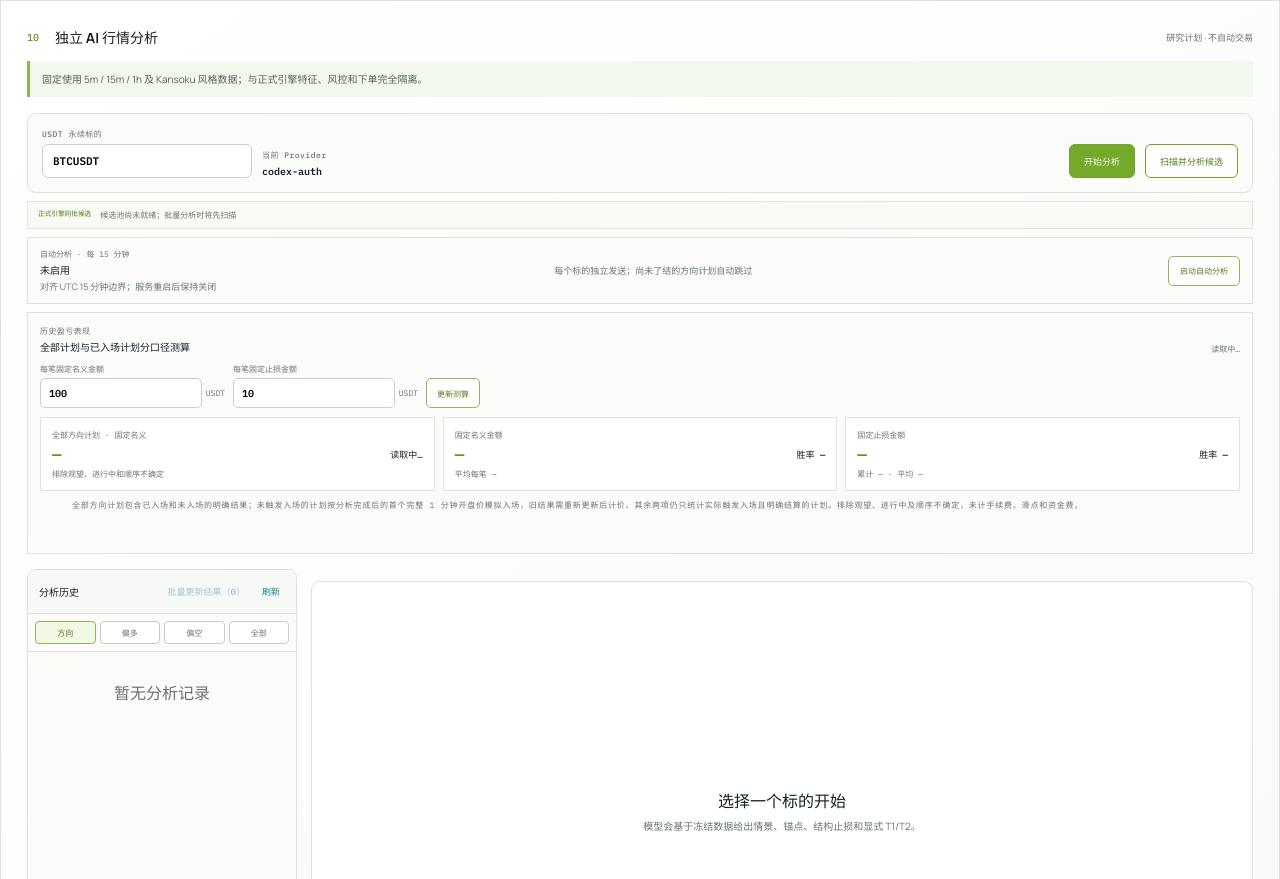
Test: MarketAnalysisPanel › starts an analysis and renders the frozen three-timeframe plan
Expected: the button "扫描并分析候选" is enabled, [1145,144,1238,178]
Click the button "开始分析": (1102, 161) [1069,144,1135,178]
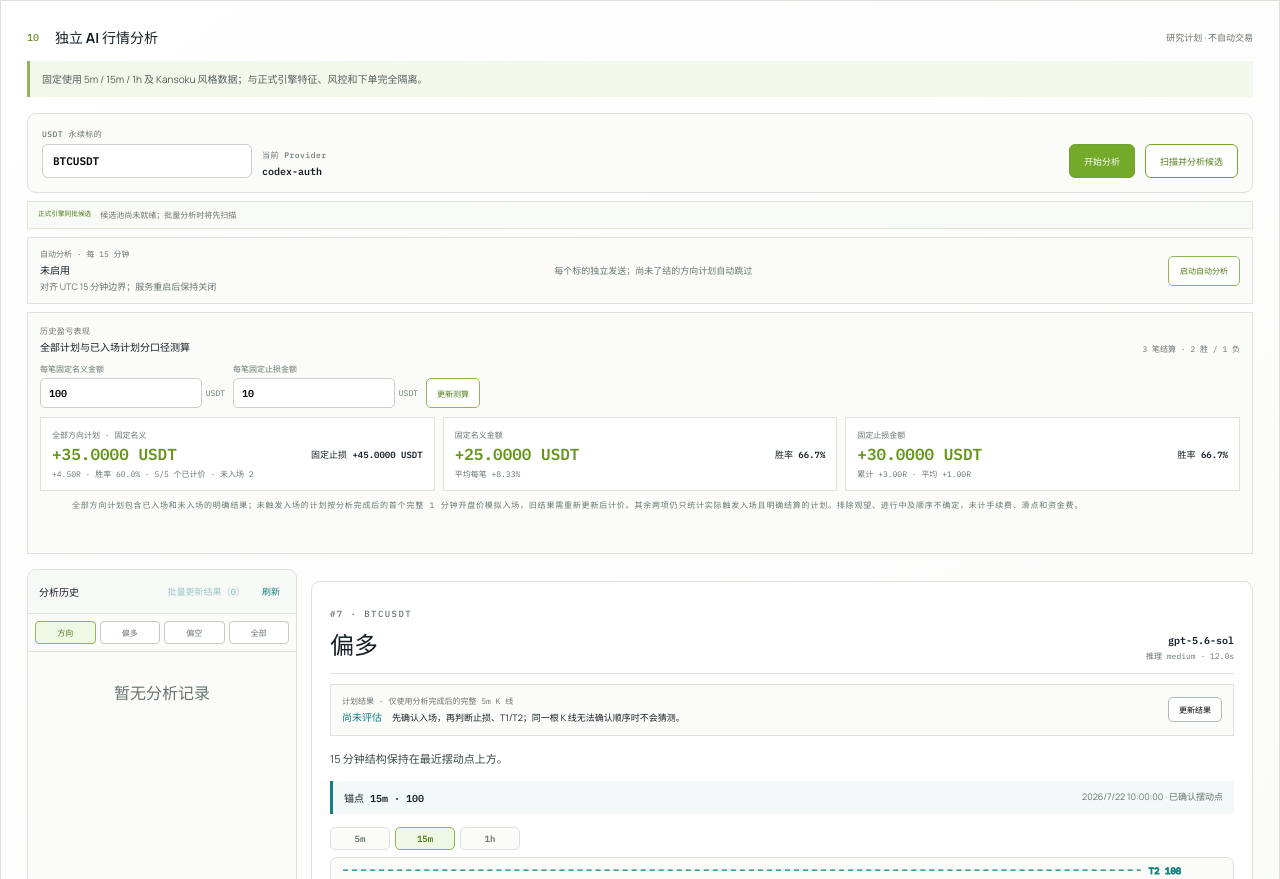
Now the heading "偏多" is shown, box [330,628,378,661]
Click the button "1h": (490, 839) [460,827,520,850]
(page scrolled)
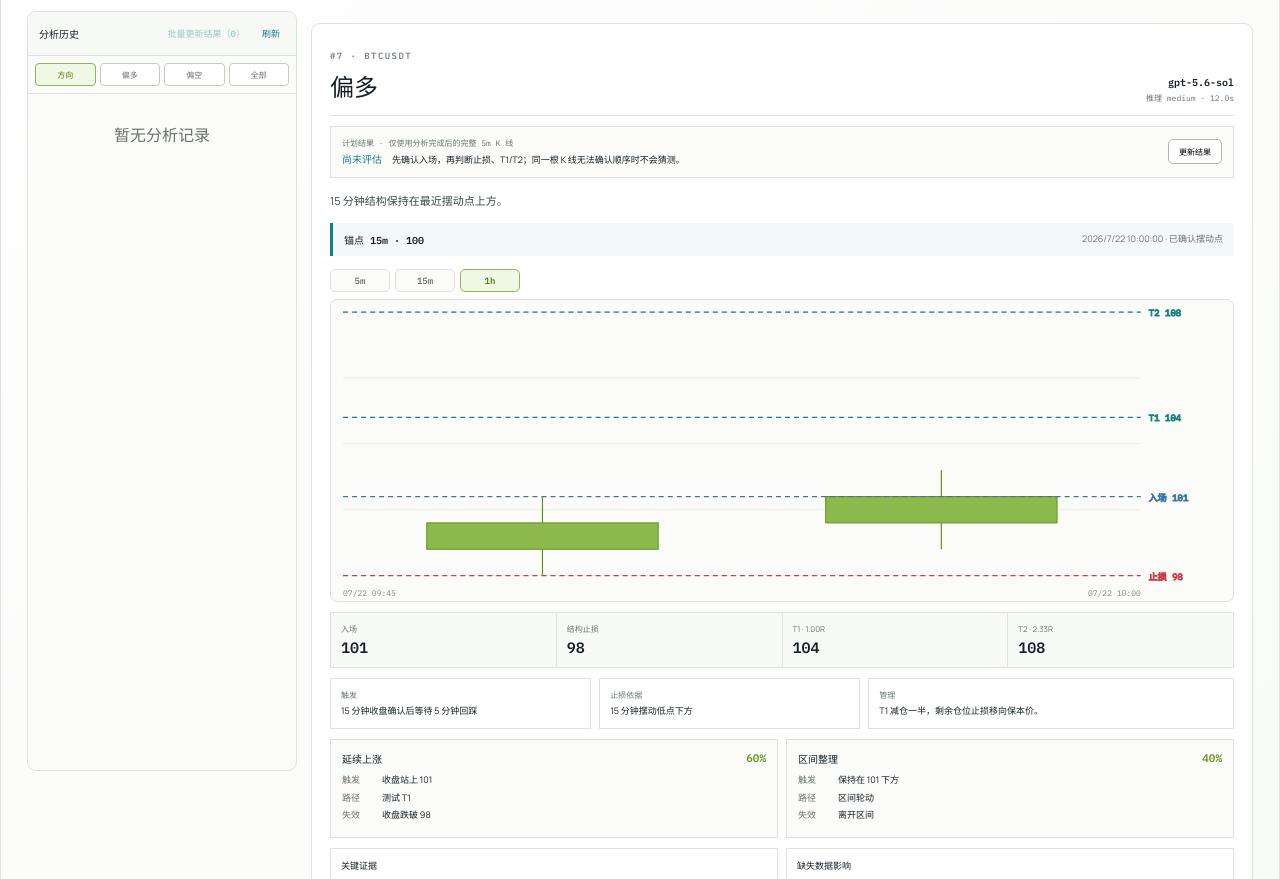
Now the picture named "BTCUSDT 1h 冻结 K 线" is shown, box [331,300,1233,601]
